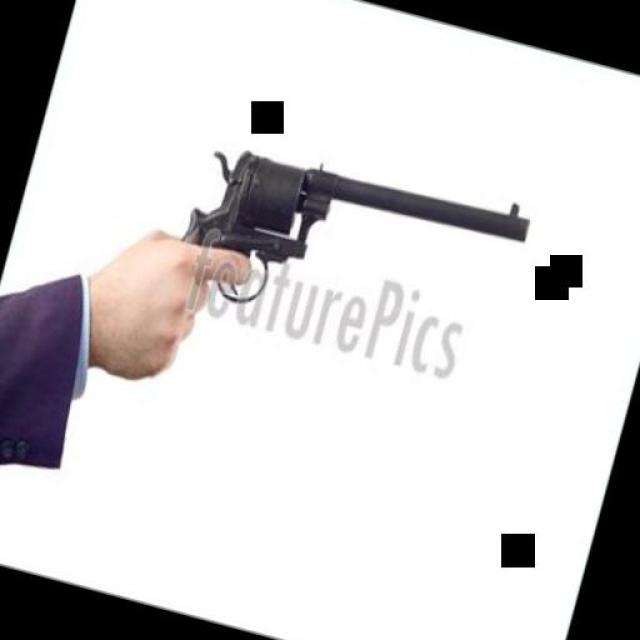gun: (147, 111, 532, 415)
